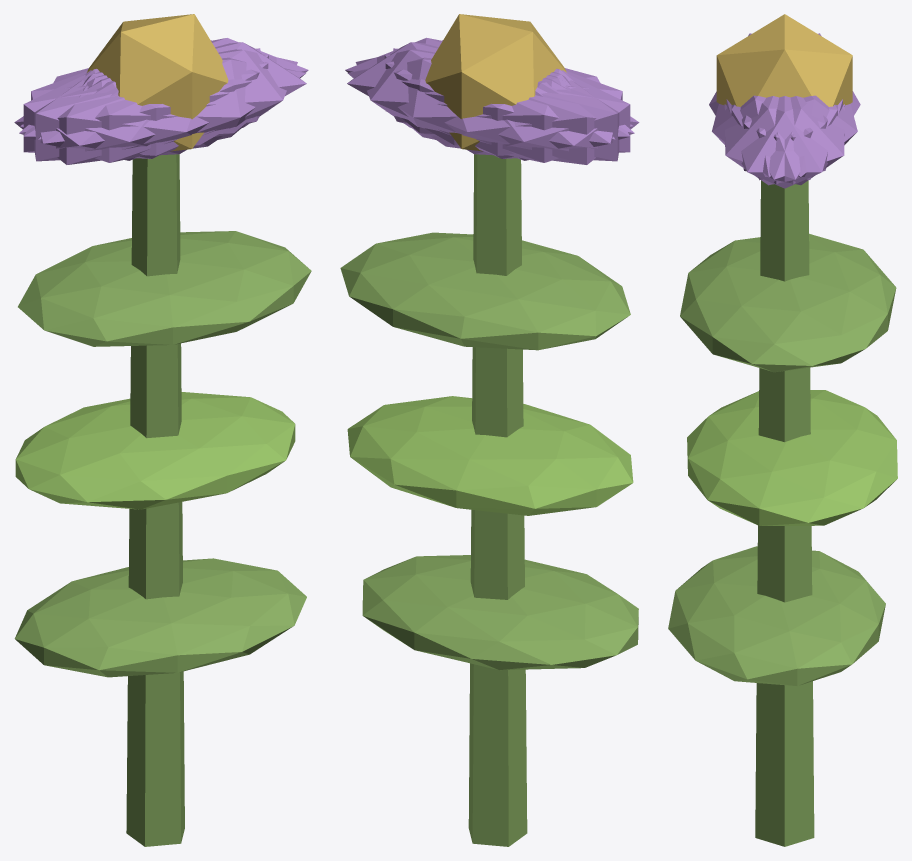
Rendered from cuphea-carthagenensis.glb.
The picture shows the model from 3 angles, left to right: view 1: azimuth 30°, elevation 25°; view 2: azimuth 150°, elevation 25°; view 3: azimuth 270°, elevation 25°; orthographic projection.
Visible parts, largest first — view 1: stem, leaf0, leaf2, leaf1, center, petal1, petal6, petal2, petal5, petal7, petal0, petal4 (+2 smaller); view 2: stem, leaf1, leaf2, leaf0, center, petal8, petal3, petal7, petal4, petal2, petal0, petal5 (+2 smaller); view 3: stem, leaf2, leaf1, leaf0, center, petal0, petal4, petal5, petal8, petal1.
Part boxes in pixels (box(x1,y1,x2,y2)): stem: box(126, 154, 184, 846); leaf0: box(14, 558, 306, 677); leaf2: box(18, 231, 311, 346); leaf1: box(15, 392, 295, 509); center: box(87, 14, 228, 151); petal1: box(19, 57, 305, 162); petal6: box(14, 70, 222, 164); petal2: box(34, 48, 260, 161); petal5: box(38, 49, 297, 155); petal7: box(23, 54, 268, 158); petal0: box(86, 42, 306, 145); petal4: box(20, 38, 308, 136); stem: box(468, 154, 527, 846); leaf1: box(347, 396, 633, 515); leaf2: box(340, 232, 630, 350); leaf0: box(362, 555, 638, 670); center: box(425, 14, 566, 151); petal8: box(347, 57, 634, 162); petal3: box(431, 70, 639, 164); petal7: box(393, 48, 619, 161); petal4: box(355, 49, 615, 155); petal2: box(384, 54, 630, 158); petal0: box(347, 42, 566, 145); petal5: box(345, 37, 633, 136); stem: box(755, 180, 814, 846); leaf2: box(680, 233, 896, 372); leaf1: box(687, 390, 897, 525); leaf0: box(668, 546, 885, 685); center: box(716, 14, 852, 106); petal0: box(726, 96, 842, 188); petal4: box(731, 96, 844, 185); petal5: box(724, 96, 837, 185); petal8: box(742, 95, 857, 177); petal1: box(712, 95, 827, 177).
Bounding box in the file's own units: 0.1452 × 0.3986 × 0.1035.
